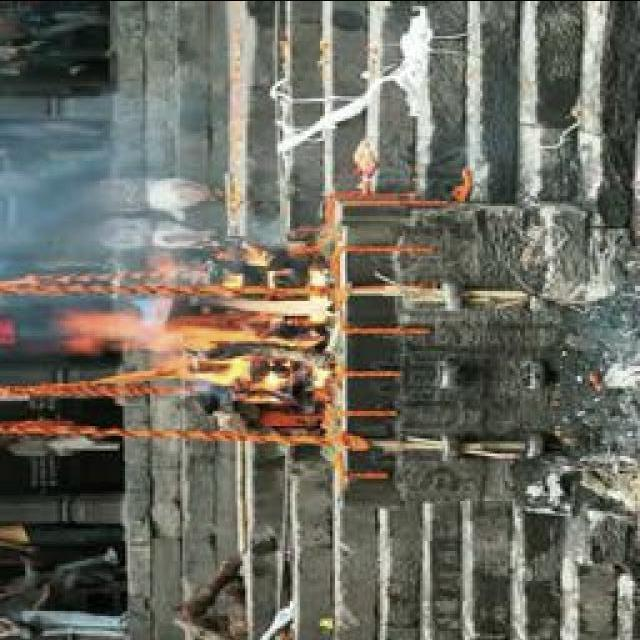Fire: (56, 268, 334, 392)
